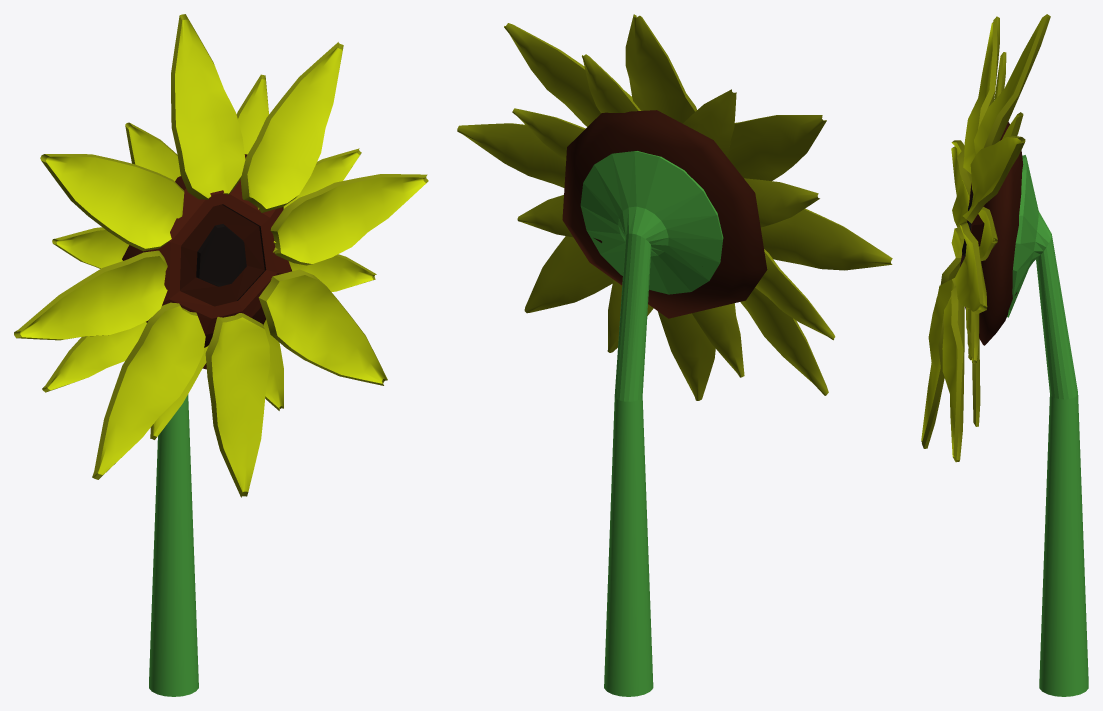
Rendered from sunflower.fbx.
3 renders of one model, left to right at view 1: azimuth 30°, elevation 25°; view 2: azimuth 150°, elevation 25°; view 3: azimuth 270°, elevation 25°, orthographic.
Parts seen in each view (by area): view 1: sunflower; view 2: sunflower; view 3: sunflower.
Boxes of the visible parts, box(x1,y1,x2,y2) form: sunflower: box(14, 14, 428, 696); sunflower: box(457, 14, 892, 696); sunflower: box(921, 14, 1088, 696).
Size of the model in its own units: 1.4 by 2.12 by 0.4793.
